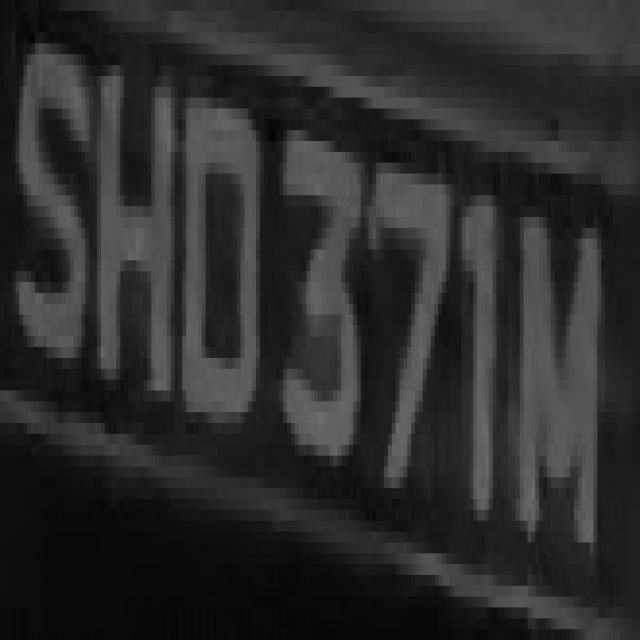1: (446, 141, 508, 575)
3: (283, 98, 361, 488)
7: (364, 130, 454, 521)
D: (175, 65, 268, 467)
H: (101, 65, 178, 434)
M: (516, 163, 613, 575)
S: (15, 22, 97, 390)
